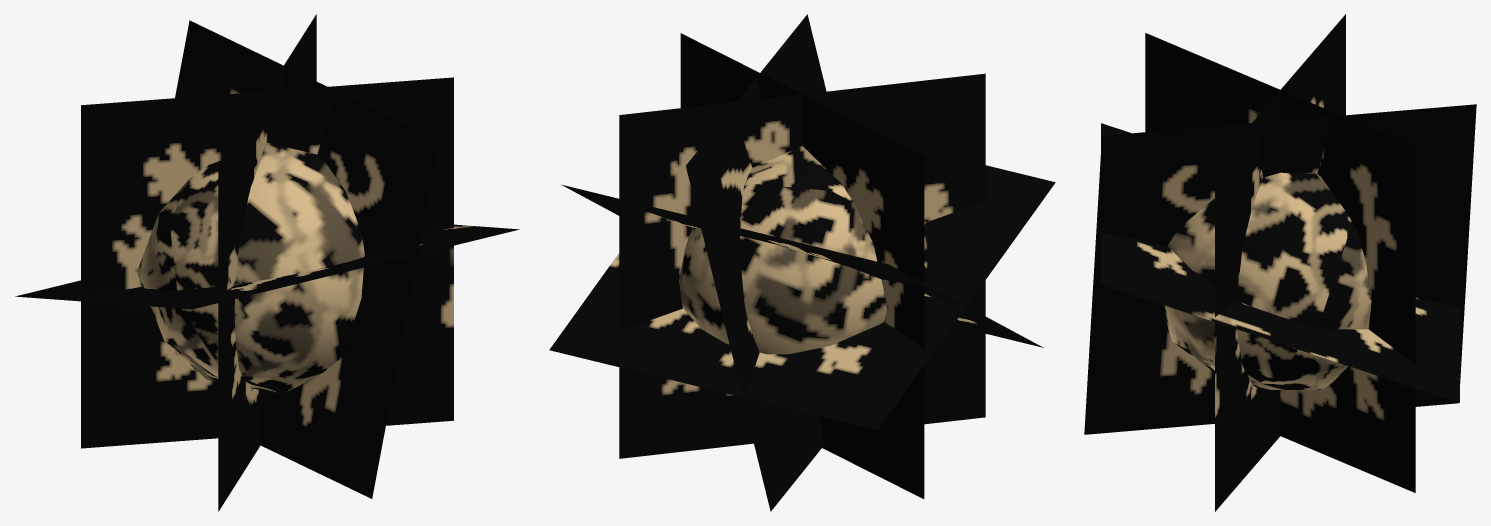
Rendered from tumbleweed_2.fbx.
The picture shows the model from 3 angles, left to right: view 1: azimuth 30°, elevation 25°; view 2: azimuth 150°, elevation 25°; view 3: azimuth 270°, elevation 25°; orthographic projection.
Parts seen in each view (by area): view 1: Icosphere.001; view 2: Icosphere.001; view 3: Icosphere.001.
Boxes of the visible parts, x1=… form: Icosphere.001: x1=15, y1=14, x2=519, y2=511; Icosphere.001: x1=549, y1=14, x2=1055, y2=511; Icosphere.001: x1=1084, y1=14, x2=1476, y2=511.
Size of the model in its own units: 200 by 200 by 205.
